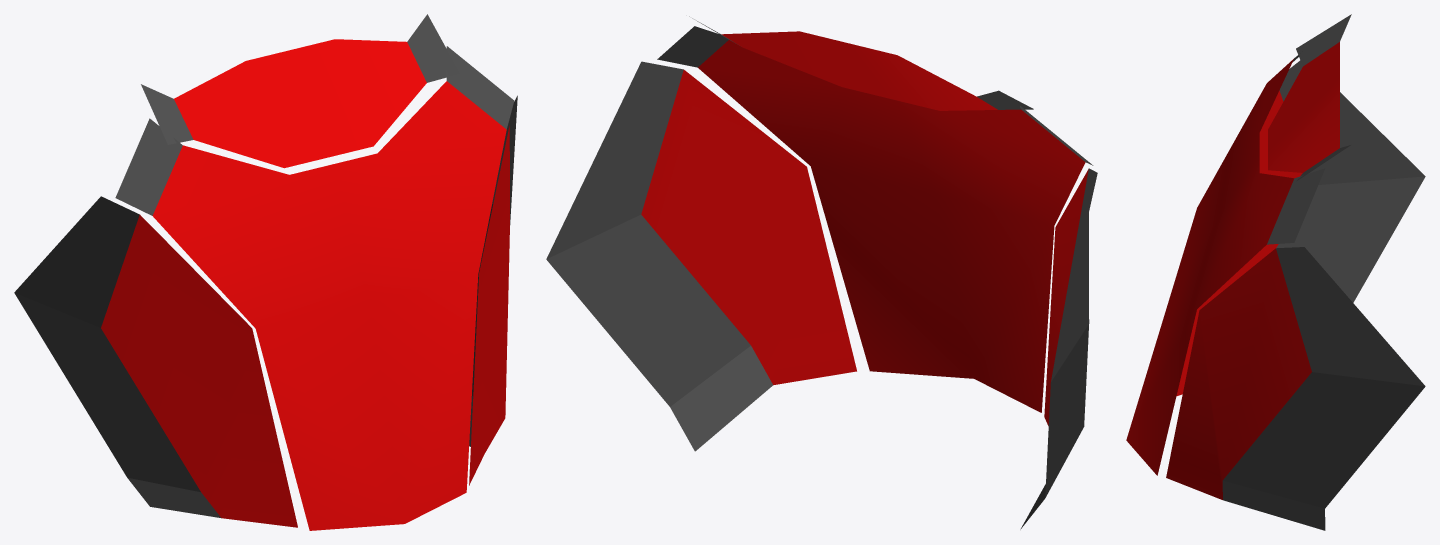
Rendered from FPV_Starship_Screen_00.fbx.
3 views of the same model, side by side, from view 1: azimuth 30°, elevation 25°; view 2: azimuth 150°, elevation 25°; view 3: azimuth 270°, elevation 25° (orthographic). The views are drawn at different scales.
Visible parts, largest first — view 1: FPS_Starship_Screen_00; view 2: FPS_Starship_Screen_00; view 3: FPS_Starship_Screen_00.
Boxes of the visible parts, <box> form: FPS_Starship_Screen_00: <box>14,14,517,530</box>; FPS_Starship_Screen_00: <box>546,16,1097,529</box>; FPS_Starship_Screen_00: <box>1126,14,1425,530</box>.
Size of the model in its own units: 2.38 by 2.05 by 1.43.
